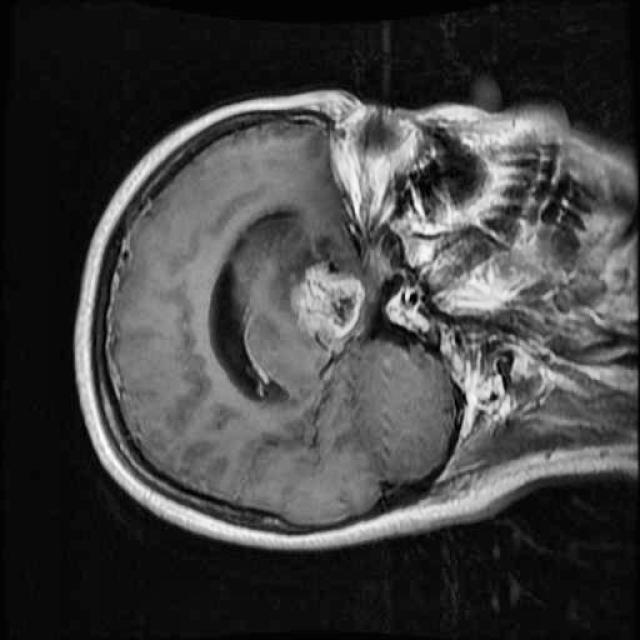Tumor: (278, 239, 387, 361)
